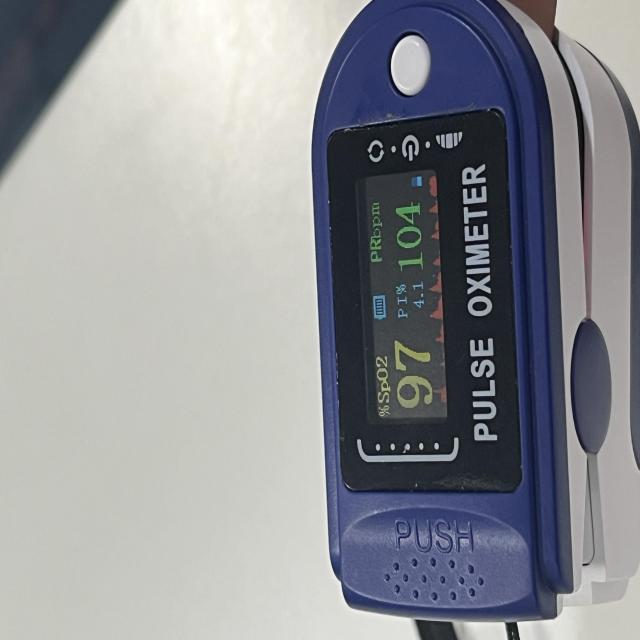spo2: (312, 0, 640, 631)
